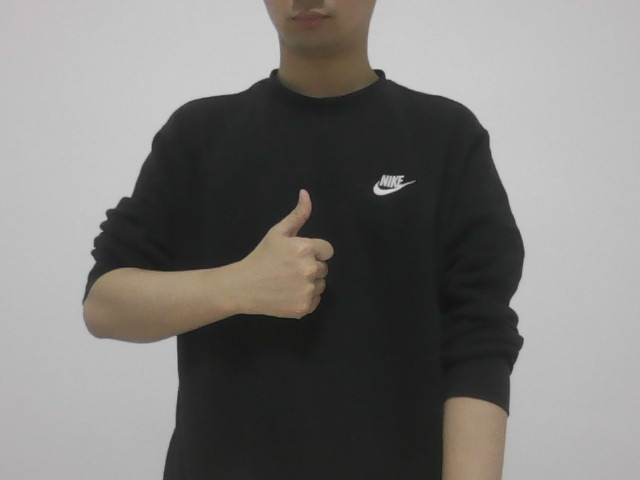good: (227, 179, 351, 327)
